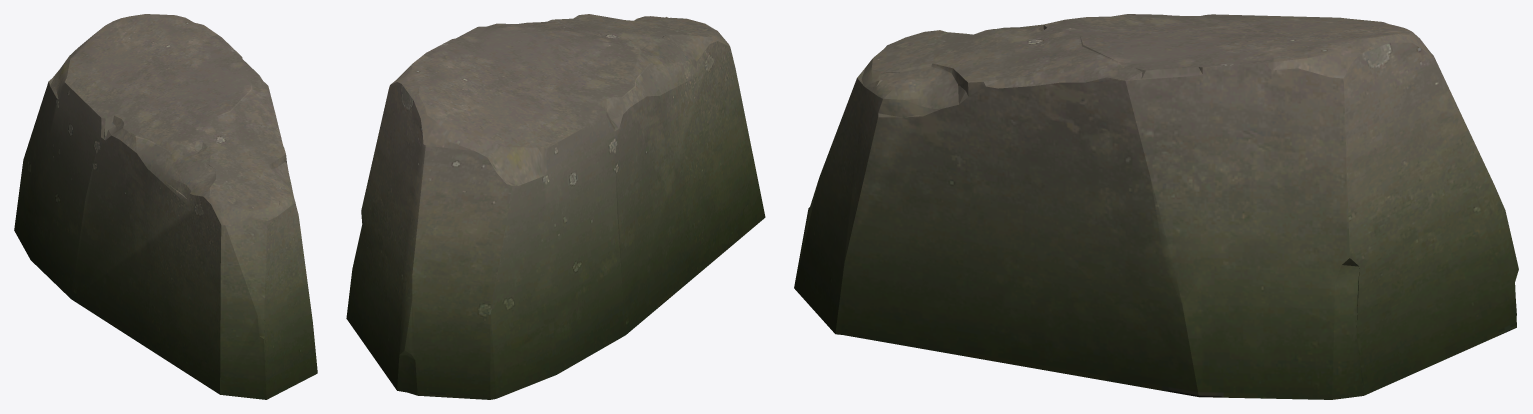
The model's file is riveredge_rock003a.fbx.
3 renders of one model, left to right at view 1: azimuth 30°, elevation 25°; view 2: azimuth 150°, elevation 25°; view 3: azimuth 270°, elevation 25°, orthographic. The views are drawn at different scales.
Parts seen in each view (by area): view 1: riveredge_rock003a; view 2: riveredge_rock003a; view 3: riveredge_rock003a.
Part boxes in pixels (left/top/right/bottom): riveredge_rock003a: left=14, top=14, right=317, bottom=399; riveredge_rock003a: left=346, top=14, right=765, bottom=399; riveredge_rock003a: left=794, top=14, right=1518, bottom=399.
Bounding box in the file's own units: 167 × 171 × 359.
